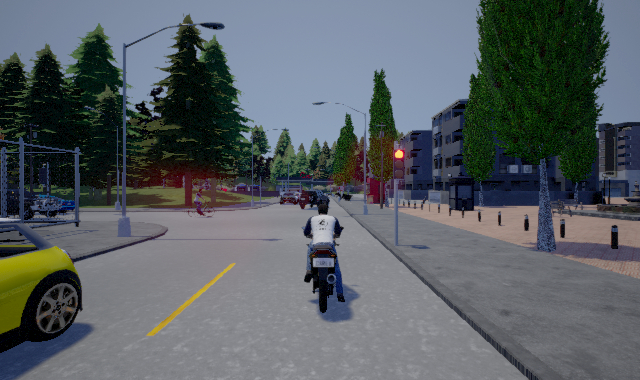bike: (188, 189, 215, 218)
motobike: (303, 203, 346, 313)
traffic_light: (393, 148, 405, 180)
vehicle: (1, 218, 83, 353), (2, 188, 59, 218), (36, 194, 77, 214), (300, 189, 330, 208), (279, 192, 298, 204)
